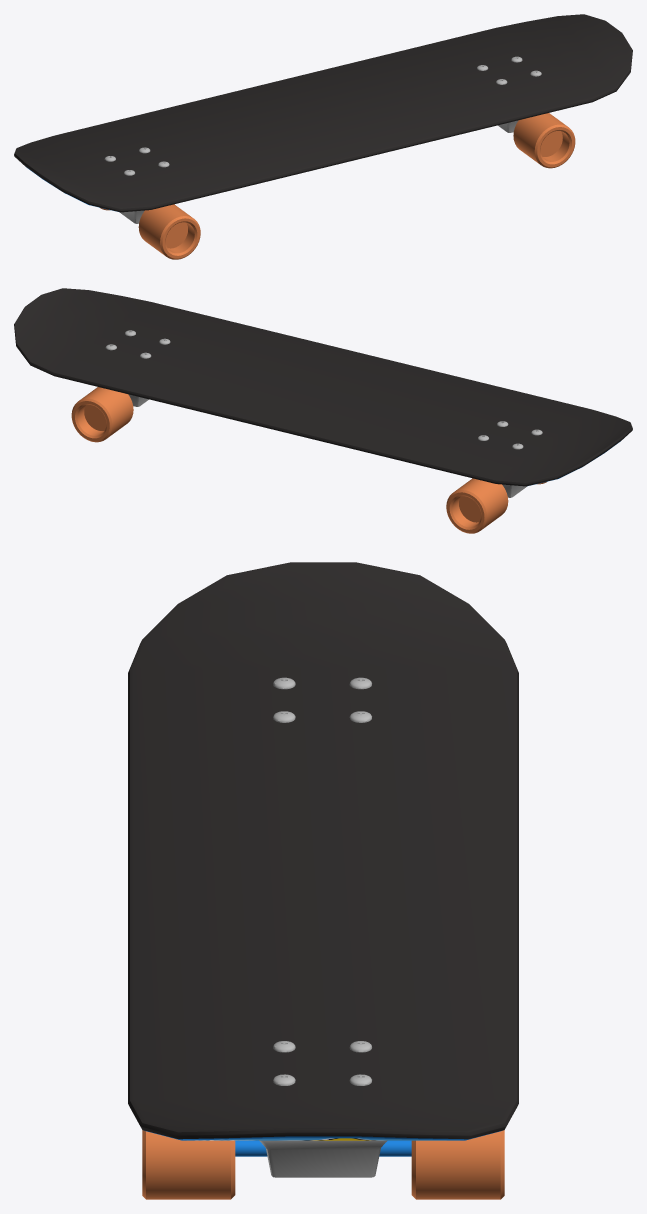
The model's file is WHEELIEOutofThisWorldSkateboardfbx.fbx.
The picture shows the model from 3 angles, top to bottom: view 1: azimuth 30°, elevation 25°; view 2: azimuth 150°, elevation 25°; view 3: azimuth 270°, elevation 25°; orthographic projection. The views are drawn at different scales.
Visible parts, largest first — view 1: Skateboard; view 2: Skateboard; view 3: Skateboard.
Part boxes in pixels (x1,y1,x2,y2): Skateboard: (14, 14, 632, 259); Skateboard: (14, 288, 632, 533); Skateboard: (128, 562, 518, 1199).
Bounding box in the file's own units: 56.61 × 7.74 × 16.46.
